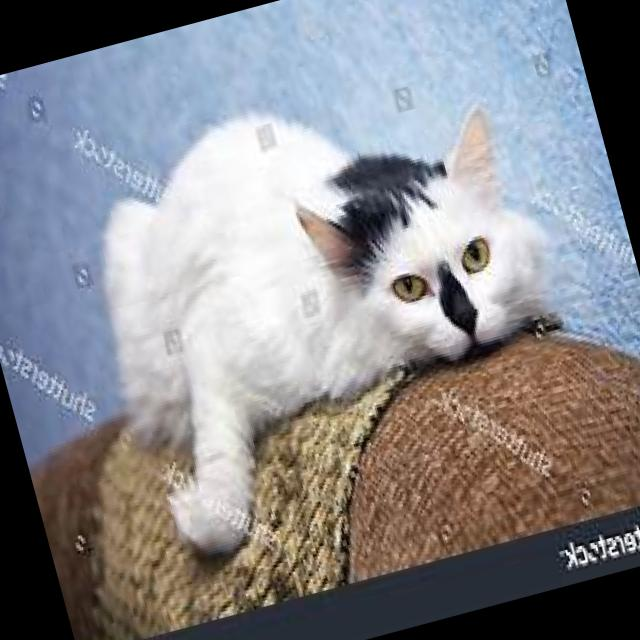animal: (49, 41, 608, 578)
